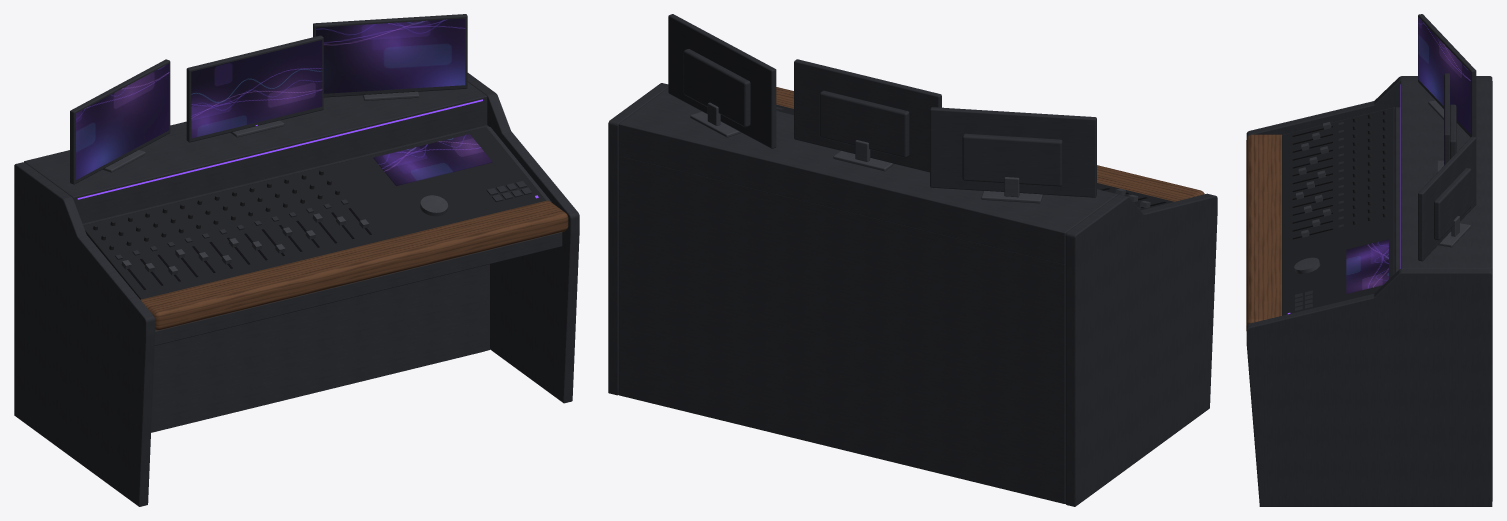
File: control_desk.glb
3 views of the same model, side by side, from view 1: azimuth 30°, elevation 25°; view 2: azimuth 150°, elevation 25°; view 3: azimuth 270°, elevation 25° (orthographic). The views are drawn at different scales.
Visible parts, largest first — view 1: part_body_LOD0, part_deck_LOD0, part_top_LOD0, part_glass_1_LOD0, part_glass_2_LOD0, part_glass_3_LOD0, part_screen_2_LOD0, part_screen_1_LOD0, part_screen_3_LOD0; view 2: part_body_LOD0, part_screen_3_LOD0, part_screen_2_LOD0, part_screen_1_LOD0, part_top_LOD0, part_deck_LOD0; view 3: part_body_LOD0, part_deck_LOD0, part_top_LOD0, part_screen_1_LOD0, part_glass_3_LOD0, part_screen_3_LOD0, part_screen_2_LOD0.
Boxes of the visible parts, x1,y1,x2,y2 form: part_body_LOD0: (14,73,579,506); part_deck_LOD0: (83,127,545,299); part_top_LOD0: (140,200,568,330); part_glass_1_LOD0: (316,18,465,93); part_glass_2_LOD0: (191,40,322,138); part_glass_3_LOD0: (76,63,169,179); part_screen_2_LOD0: (186,35,323,142); part_screen_1_LOD0: (313,14,467,100); part_screen_3_LOD0: (70,59,170,184); part_body_LOD0: (608,83,1217,506); part_screen_3_LOD0: (930,107,1096,203); part_screen_2_LOD0: (794,59,941,172); part_screen_1_LOD0: (668,14,776,148); part_top_LOD0: (776,87,1204,201); part_deck_LOD0: (776,104,1174,210); part_body_LOD0: (1246,76,1492,506); part_deck_LOD0: (1282,107,1394,315); part_top_LOD0: (1246,134,1281,330); part_screen_1_LOD0: (1418,136,1476,261); part_glass_3_LOD0: (1418,17,1470,134); part_screen_3_LOD0: (1418,14,1476,137); part_screen_2_LOD0: (1437,73,1456,172).
Size of what is drawn, in the model's own units: 1.8 by 1.3 by 0.95.
10 materials, 8 textured.
